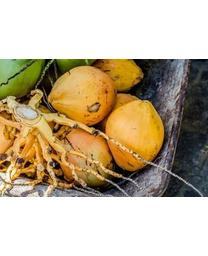coconut: (106, 99, 165, 171), (48, 65, 118, 125), (58, 123, 113, 188)
